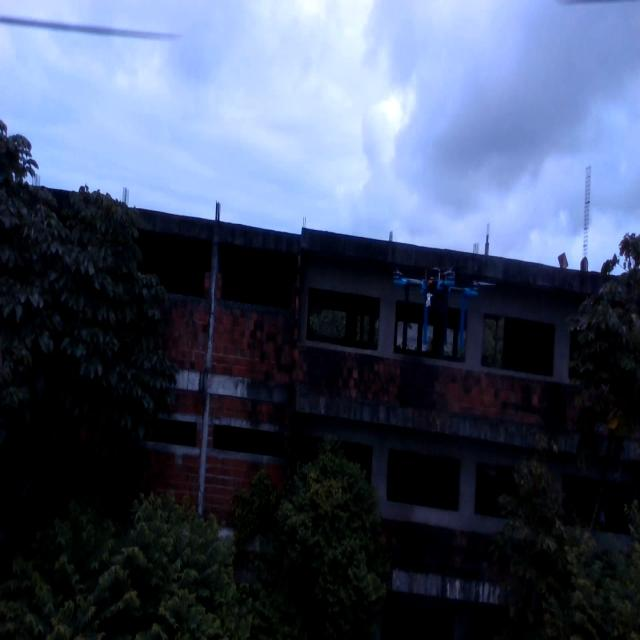-uav-: (395, 242, 483, 358)
